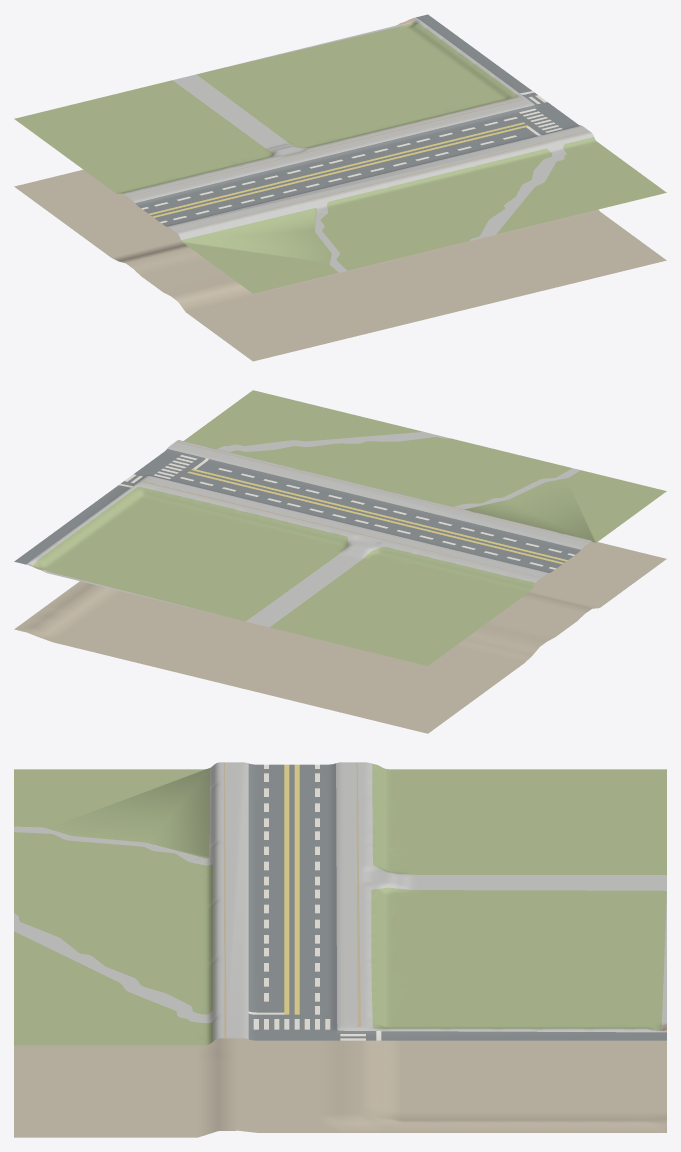
The picture shows the model from 3 angles, top to bottom: view 1: azimuth 30°, elevation 25°; view 2: azimuth 150°, elevation 25°; view 3: azimuth 270°, elevation 25°; orthographic projection. The views are drawn at different scales.
Visible parts, largest first — view 1: s_-9_5__grass, s_-9_5__soil, s_-9_5__stone_paving, s_-9_5__asphalt, s_-9_5__yellow_marking, s_-9_5__white_marking, s_-9_5__timber_deck; view 2: s_-9_5__grass, s_-9_5__soil, s_-9_5__stone_paving, s_-9_5__asphalt, s_-9_5__yellow_marking, s_-9_5__white_marking, s_-9_5__timber_deck; view 3: s_-9_5__grass, s_-9_5__soil, s_-9_5__stone_paving, s_-9_5__asphalt, s_-9_5__yellow_marking, s_-9_5__white_marking, s_-9_5__timber_deck.
Part boxes in pixels (bbox=[...]): s_-9_5__grass: bbox=[14, 22, 666, 293]; s_-9_5__soil: bbox=[14, 169, 666, 361]; s_-9_5__stone_paving: bbox=[122, 17, 593, 272]; s_-9_5__asphalt: bbox=[135, 14, 580, 226]; s_-9_5__yellow_marking: bbox=[149, 122, 528, 217]; s_-9_5__white_marking: bbox=[141, 91, 562, 223]; s_-9_5__timber_deck: bbox=[127, 99, 589, 232]; s_-9_5__grass: bbox=[33, 390, 666, 665]; s_-9_5__soil: bbox=[14, 541, 666, 733]; s_-9_5__stone_paving: bbox=[26, 432, 591, 627]; s_-9_5__asphalt: bbox=[14, 449, 580, 572]; s_-9_5__yellow_marking: bbox=[187, 468, 567, 564]; s_-9_5__white_marking: bbox=[119, 455, 574, 569]; s_-9_5__timber_deck: bbox=[143, 441, 589, 577]; s_-9_5__grass: bbox=[14, 763, 666, 1045]; s_-9_5__soil: bbox=[14, 1038, 666, 1137]; s_-9_5__stone_paving: bbox=[14, 762, 666, 1041]; s_-9_5__asphalt: bbox=[248, 763, 666, 1040]; s_-9_5__yellow_marking: bbox=[284, 764, 299, 1014]; s_-9_5__white_marking: bbox=[248, 764, 381, 1040]; s_-9_5__timber_deck: bbox=[223, 762, 360, 1038].
Size of the model in its own units: 128 by 21.51 by 128.
